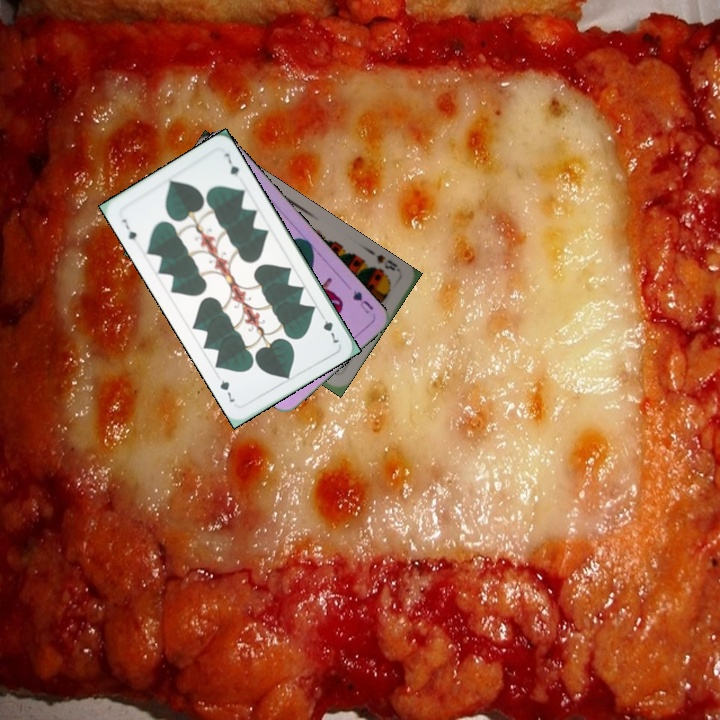G7: (316, 309, 341, 347), (118, 215, 139, 243)
GU: (349, 286, 376, 316)
S8: (372, 250, 404, 275)
